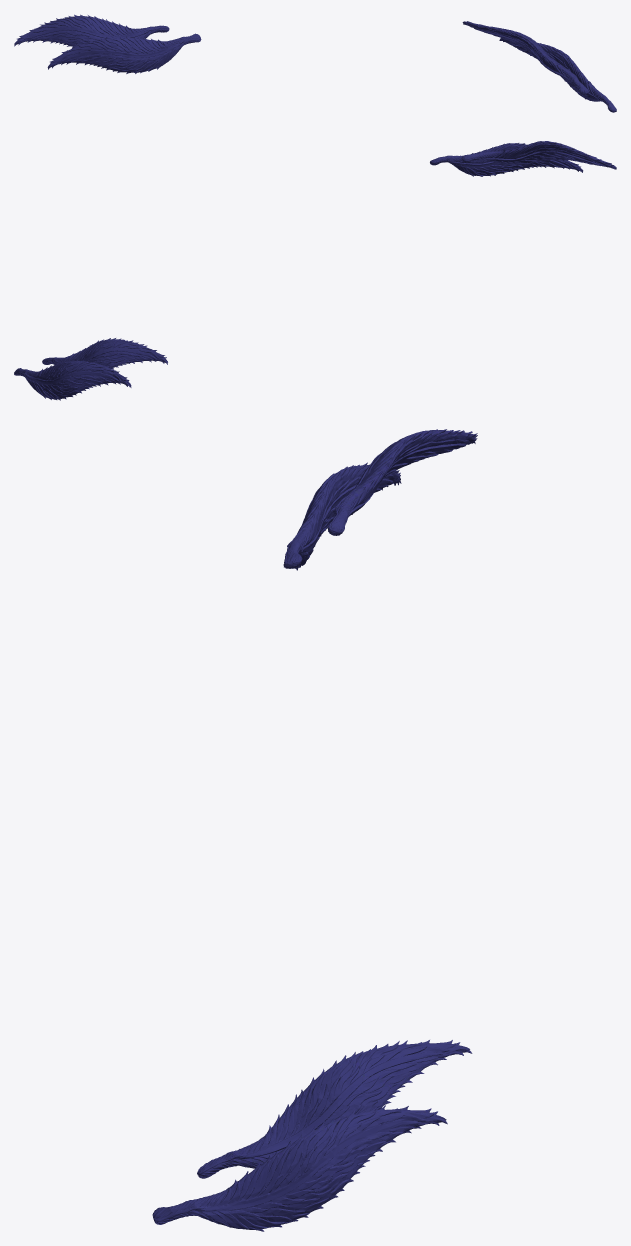
File: SubTool-7-7785203.OBJ
3 renders of one model, top to bottom at view 1: azimuth 30°, elevation 25°; view 2: azimuth 210°, elevation 25°; view 3: azimuth 270°, elevation 25°, orthographic. The views are drawn at different scales.
Parts seen in each view (by area): view 1: Group26545, Group26560, Group26575, Group26590; view 2: Group26590, Group26560, Group26575, Group26545; view 3: Group26590, Group26575, Group26560, Group26545.
Boxes of the visible parts, box(x1,y1,x2,y2) form: Group26545: box(47, 33, 201, 73); Group26560: box(14, 14, 169, 48); Group26575: box(462, 21, 588, 94); Group26590: box(499, 38, 616, 112); Group26590: box(14, 359, 131, 400); Group26560: box(461, 141, 616, 169); Group26575: box(42, 338, 167, 369); Group26545: box(430, 143, 583, 176); Group26590: box(152, 1105, 447, 1231); Group26575: box(197, 1040, 472, 1178); Group26560: box(327, 429, 477, 535); Group26545: box(283, 462, 401, 570).
Size of the model in its own units: 2.85 by 0.8889 by 0.7676.
Materials: 1 (1 with a texture image).
